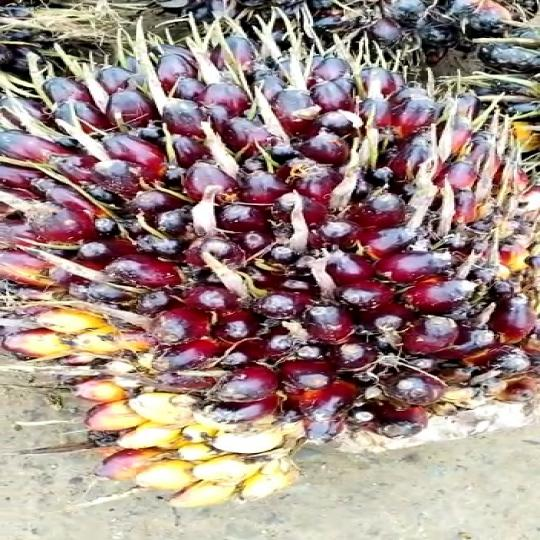mentah: (4, 25, 540, 514)
